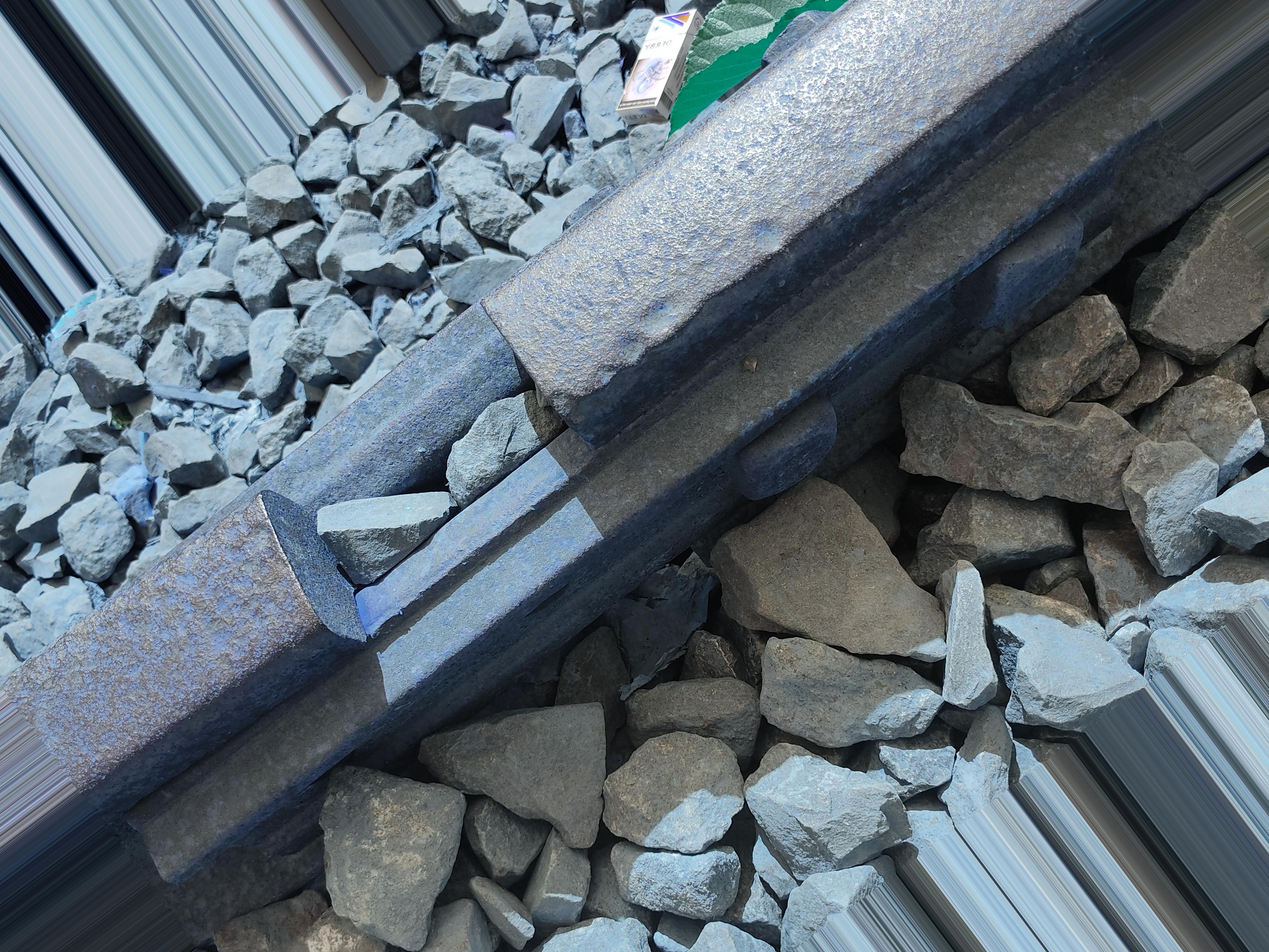tracks_fault: (244, 270, 634, 671)
